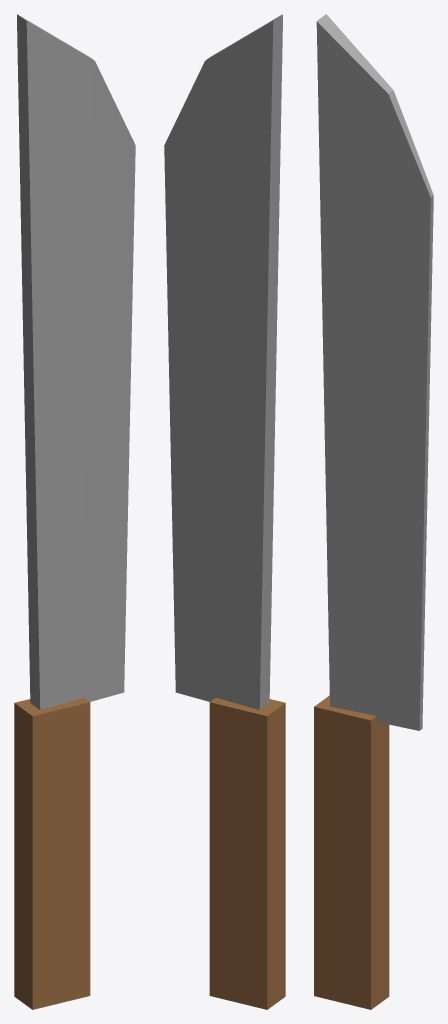
Rendered from facao.fbx.
3 renders of one model, left to right at view 1: azimuth 30°, elevation 25°; view 2: azimuth 150°, elevation 25°; view 3: azimuth 330°, elevation 25°, orthographic.
Parts seen in each view (by area): view 1: Facao; view 2: Facao; view 3: Facao.
Boxes of the visible parts, <box> form: Facao: <box>14,14,135,1009</box>; Facao: <box>164,14,285,1009</box>; Facao: <box>314,14,433,1009</box>.
Bounding box in the file's own units: 25.51 × 214 × 7.22.
